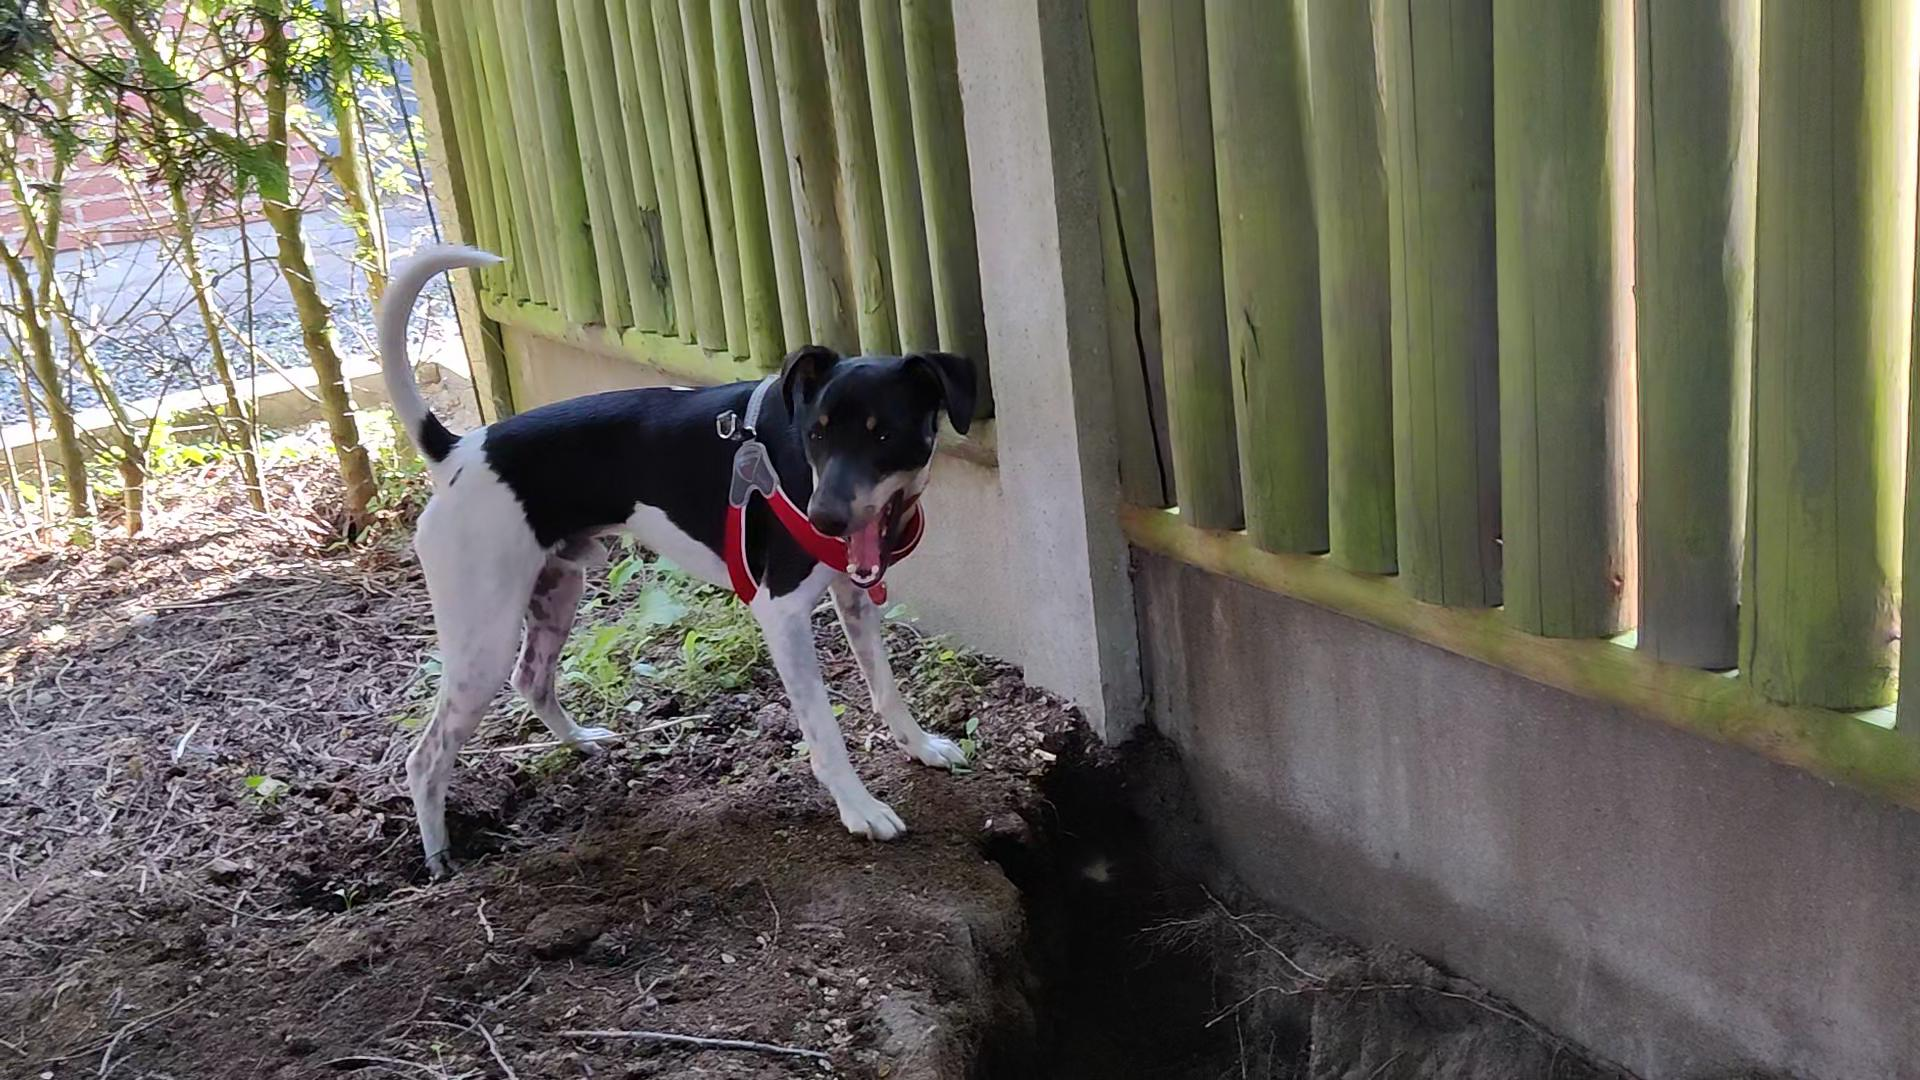Dog: (339, 229, 998, 873)
